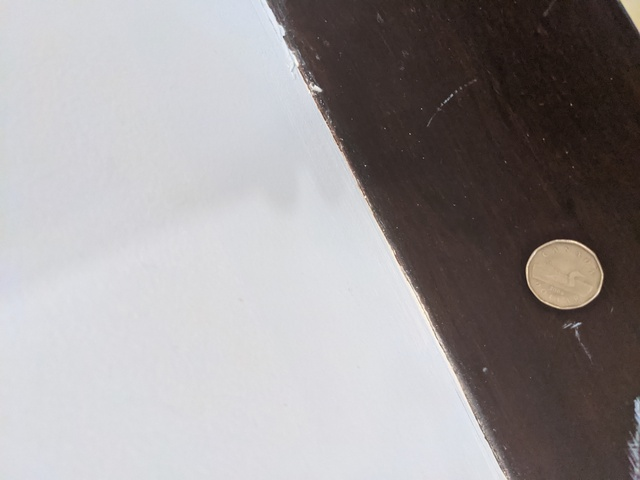loonie: (517, 232, 613, 314)
